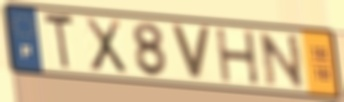8: (131, 21, 170, 78)
H: (213, 28, 262, 87)
N: (256, 31, 307, 91)
T: (41, 11, 77, 73)
V: (168, 22, 214, 83)
X: (82, 15, 129, 76)
